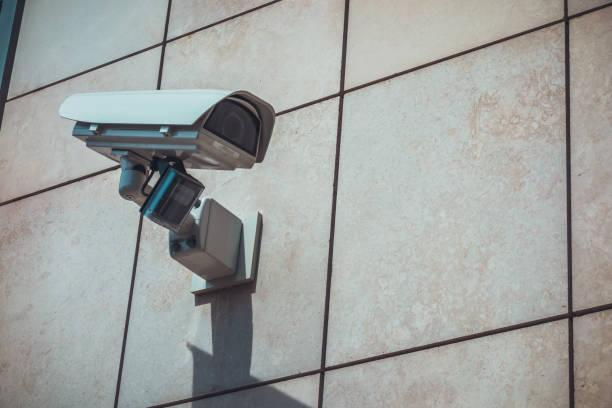camera: (38, 70, 287, 209)
